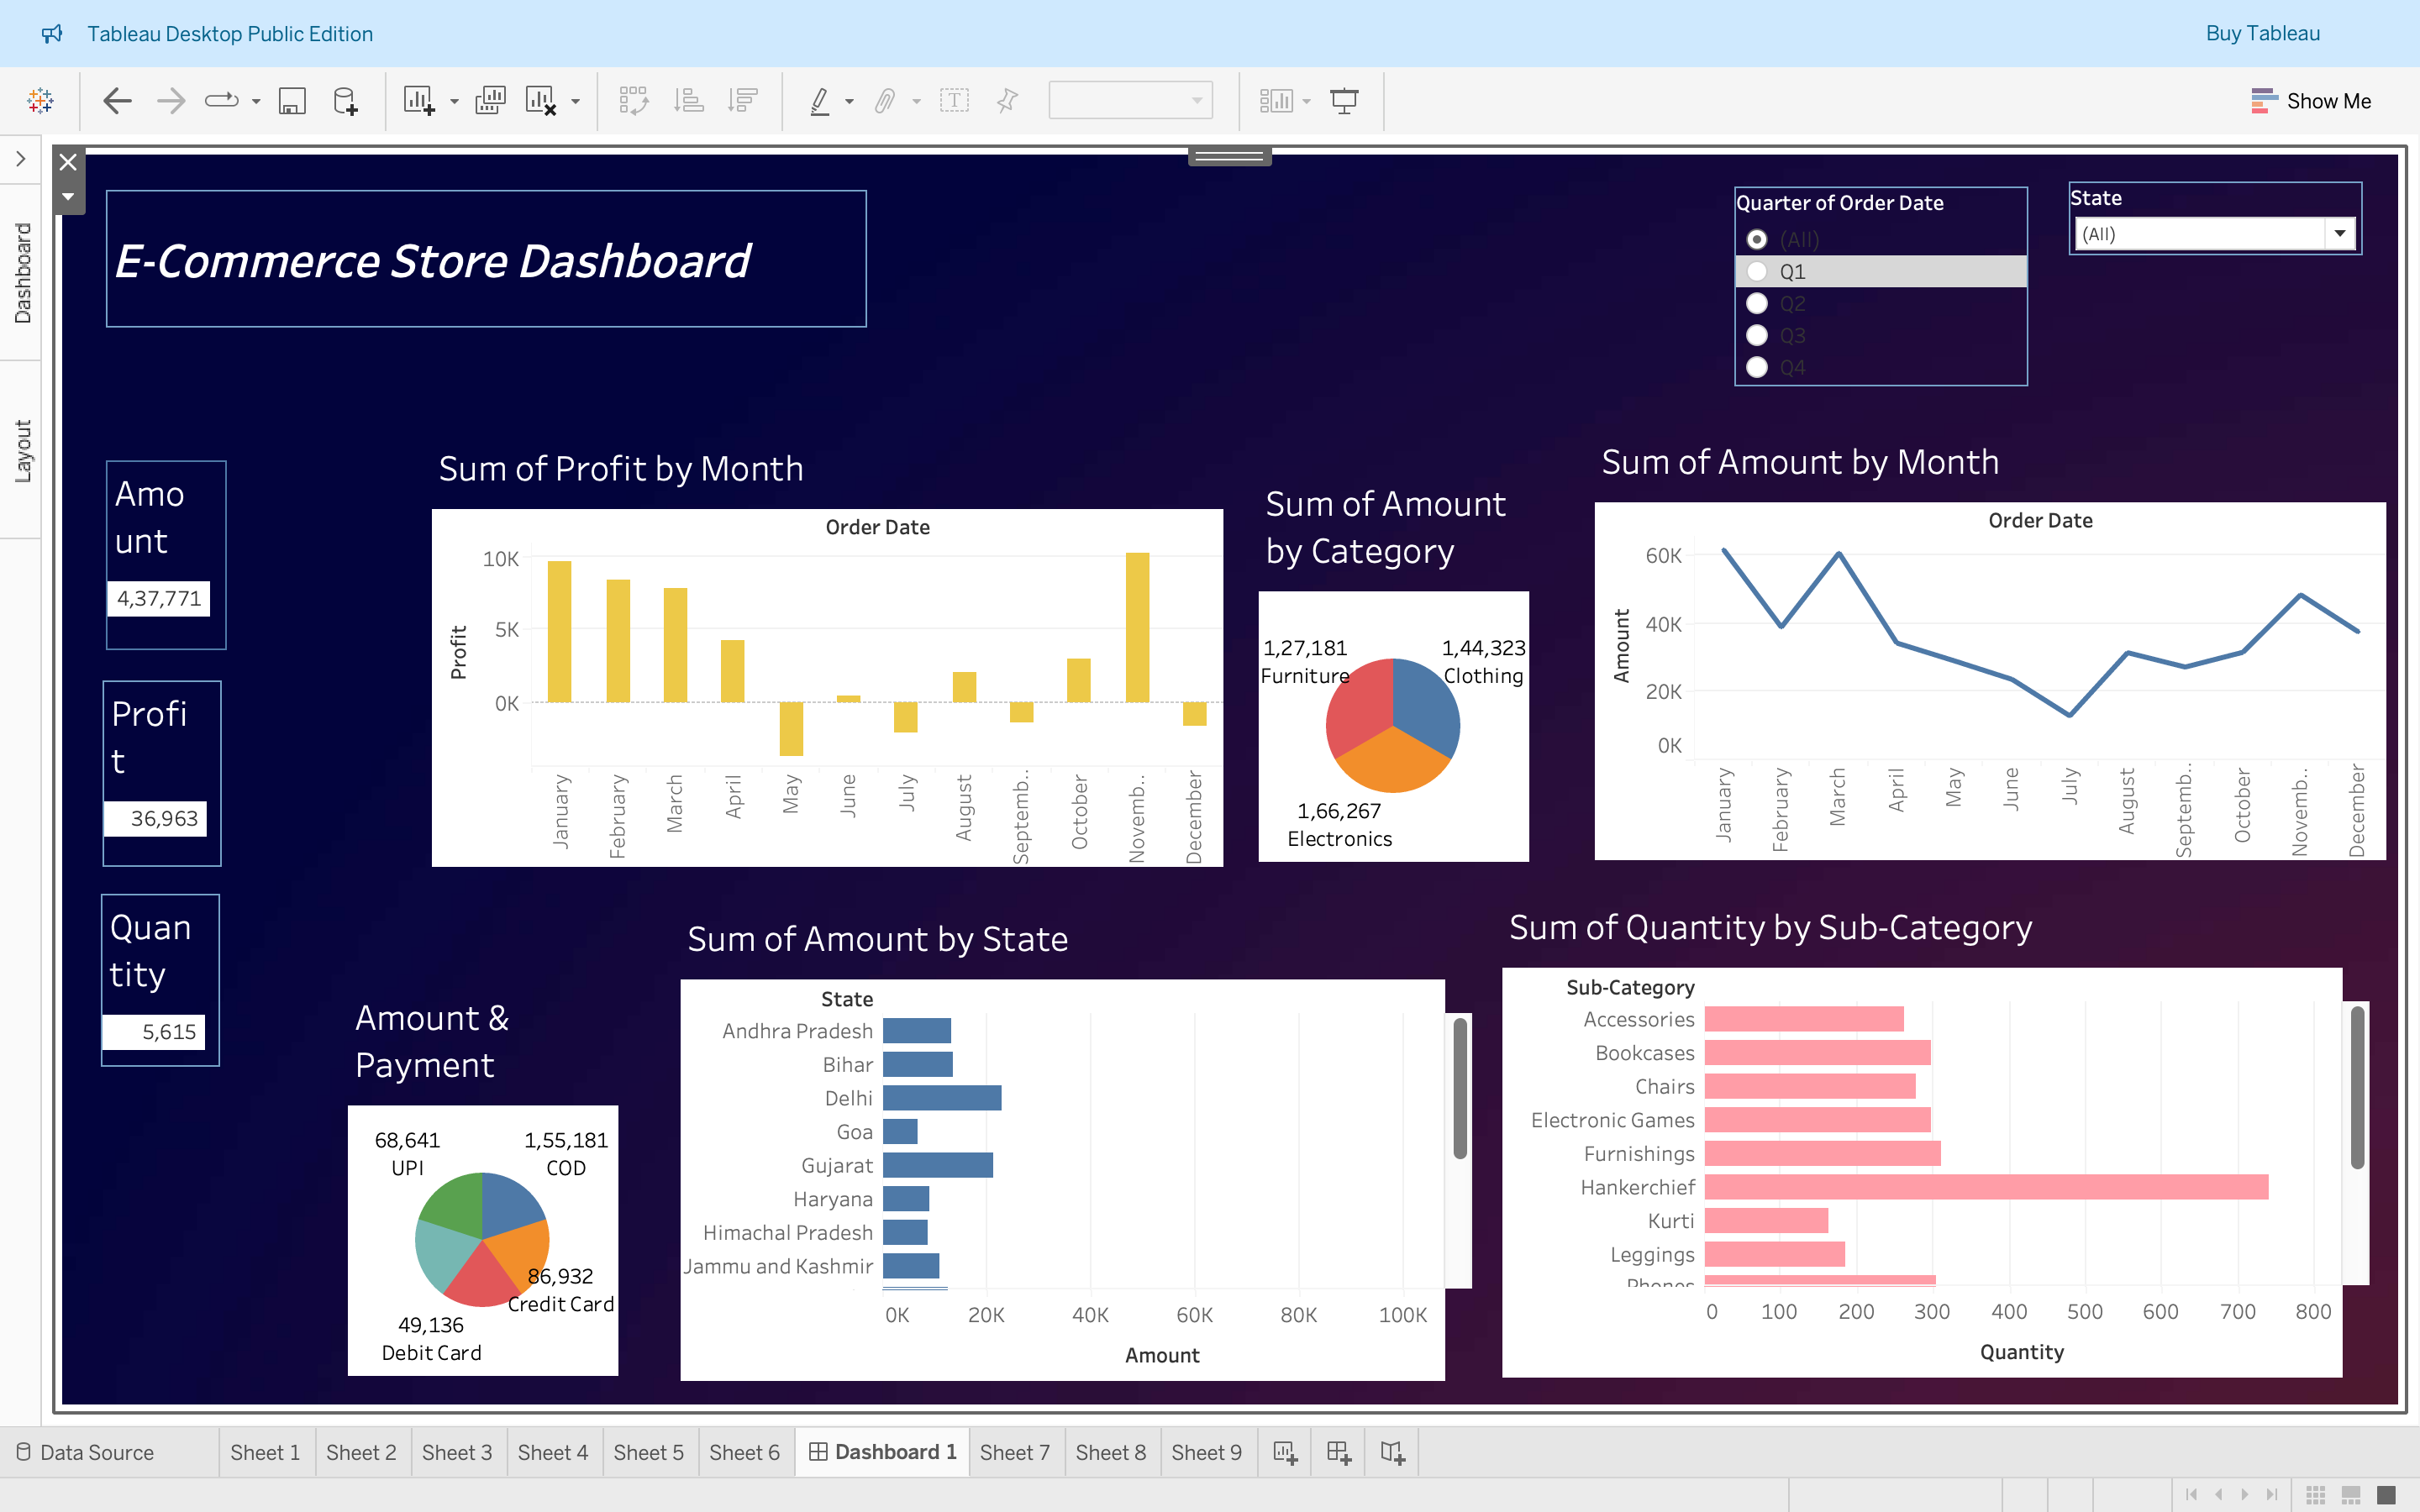

What the dashboard file says about the page in this screenshot:
{"tool":"tableau","page":{"name":"Dashboard 1","canvas":[1000,1000],"units":"permille","ordinal":0},"visuals":[{"type":"image","param":"Image/dark-gradient.jpg","box":[5.7,10.4,988.7,979.2]},{"type":"filter","title":"Sheet 1","param":"[federated.1eg7r0v0wch68r1cwewop0mffbi0].[none:State:nk]","box":[850.3,31.2,129.4,67.7]},{"type":"filter","title":"Sheet 1","param":"[federated.1eg7r0v0wch68r1cwewop0mffbi0].[qr:Order Date:ok]","box":[709.6,35.2,129.4,165.4]},{"type":"text","box":[26.7,43,320.4,106.8]},{"type":"worksheet","title":"Sheet 6","mark":"Automatic","rows":["Amount"],"cols":["Order Date"],"box":[653.7,229.2,333.3,333.3]},{"type":"worksheet","title":"Sheet 1","mark":"Bar","rows":["Profit"],"cols":["Order Date"],"box":[164.2,234.4,333.3,333.3]},{"type":"worksheet","title":"Sheet 7","mark":"Automatic","box":[26.7,252.6,51,147.1]},{"type":"worksheet","title":"Sheet 5","mark":"Pie","box":[512.1,261.7,130.3,303.4]},{"type":"worksheet","title":"Sheet 8","mark":"Automatic","box":[25.7,423,50.5,144.3]},{"type":"worksheet","title":"Sheet 9","mark":"Automatic","box":[24.9,588.2,50.5,134.4]},{"type":"worksheet","title":"Sheet 4","mark":"Automatic","rows":["Sub-Category"],"cols":["Quantity"],"box":[614.9,589.8,364.9,373.7]},{"type":"worksheet","title":"Sheet 3","mark":"Automatic","rows":["State"],"cols":["Amount"],"box":[268.6,599,333.3,367.2]},{"type":"worksheet","title":"Sheet 2","mark":"Pie","box":[128.6,660.2,131.9,307.3]}]}

Visuals, with their boxes on the dashboard's canvas, which has no fixed pixel size, in thousandths of its width and height (x1, y1, x2, y2). These are canvas units, not pixel positions in the 2420x1512 screenshot, which may show the page scaled, cropped or inside an application window:
image: [x1=6, y1=10, x2=994, y2=990]
"Sheet 1" filter: [x1=850, y1=31, x2=980, y2=99]
"Sheet 1" filter: [x1=710, y1=35, x2=839, y2=201]
text: [x1=27, y1=43, x2=347, y2=150]
"Sheet 6" worksheet: [x1=654, y1=229, x2=987, y2=562]
"Sheet 1" worksheet (Bar marks): [x1=164, y1=234, x2=498, y2=568]
"Sheet 7" worksheet: [x1=27, y1=253, x2=78, y2=400]
"Sheet 5" worksheet (Pie marks): [x1=512, y1=262, x2=642, y2=565]
"Sheet 8" worksheet: [x1=26, y1=423, x2=76, y2=567]
"Sheet 9" worksheet: [x1=25, y1=588, x2=75, y2=723]
"Sheet 4" worksheet: [x1=615, y1=590, x2=980, y2=964]
"Sheet 3" worksheet: [x1=269, y1=599, x2=602, y2=966]
"Sheet 2" worksheet (Pie marks): [x1=129, y1=660, x2=260, y2=968]
